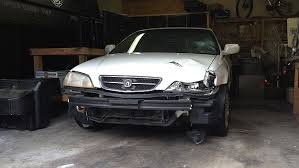Broken-glass: (167, 75, 220, 98)
Dent: (168, 56, 209, 72)
Smashed: (66, 86, 215, 128)
